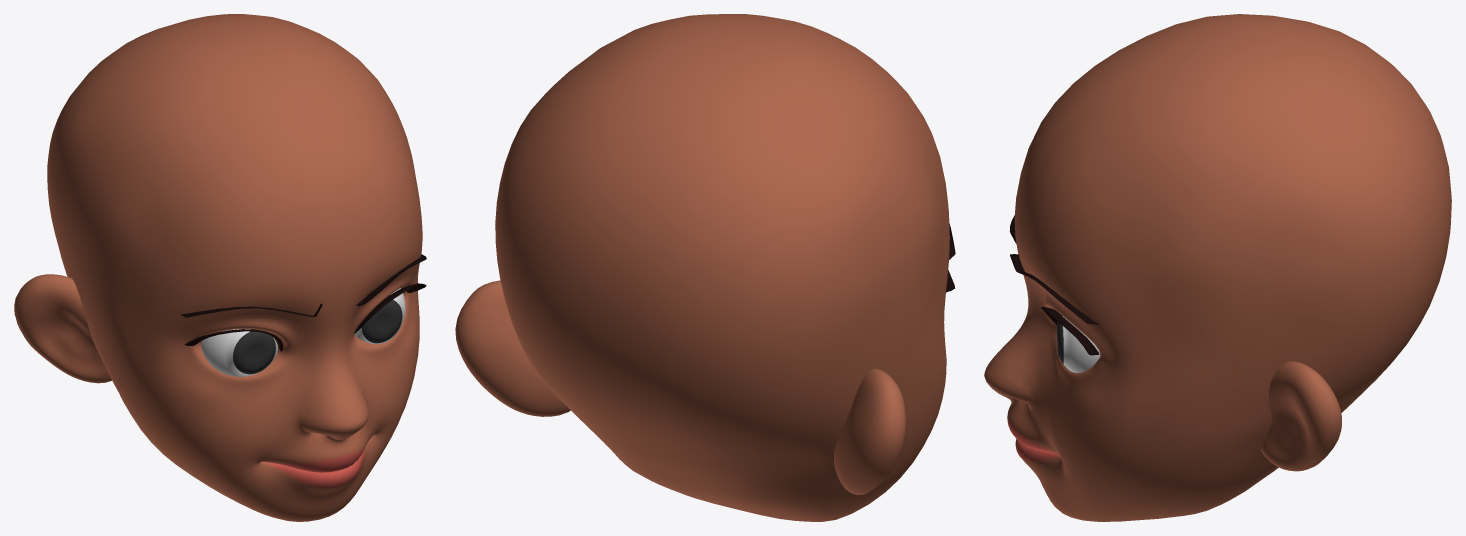
3 views of the same model, side by side, from view 1: azimuth 30°, elevation 25°; view 2: azimuth 150°, elevation 25°; view 3: azimuth 270°, elevation 25° (orthographic). The views are drawn at different scales.
Visible parts, largest first — view 1: skin, ears, eyes, brows; view 2: skin, ears; view 3: skin, ears, brows, eyes.
Part boxes in pixels (x1,y1,x2,y2): skin: (47, 14, 422, 521); ears: (14, 274, 111, 383); eyes: (201, 288, 405, 376); brows: (180, 254, 426, 351); skin: (495, 14, 949, 521); ears: (455, 280, 905, 494); skin: (984, 14, 1451, 521); ears: (1261, 361, 1341, 471); brows: (1010, 215, 1099, 355); eyes: (1057, 314, 1100, 373).
Bounding box in the file's own units: 1.8 × 2 × 1.8.
Materials: 11 (1 with a texture image).
